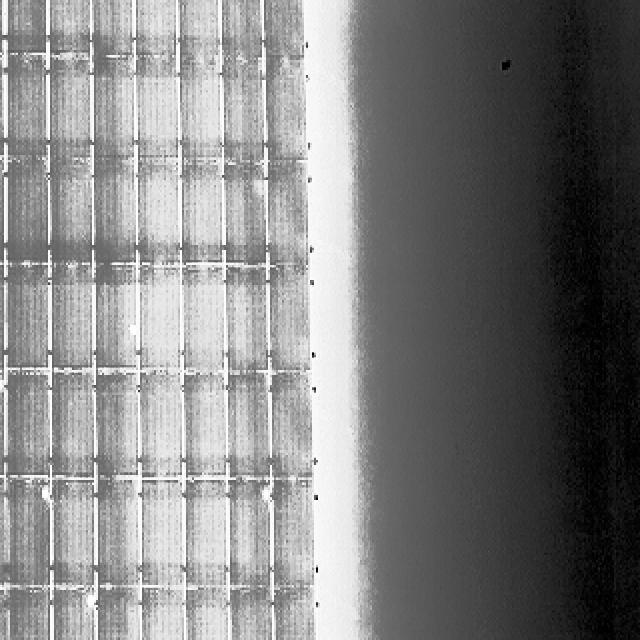Hotspots: (79, 588, 96, 612), (39, 485, 50, 501), (260, 486, 269, 502), (128, 324, 138, 336), (0, 375, 2, 393)
PV-modules: (0, 480, 54, 592), (50, 372, 104, 480), (49, 264, 103, 371), (48, 482, 96, 592), (223, 482, 270, 594), (223, 373, 270, 481), (96, 480, 142, 590), (90, 371, 136, 480), (221, 265, 266, 375), (3, 371, 50, 476), (268, 375, 314, 482), (137, 478, 182, 587), (184, 481, 229, 590), (3, 267, 49, 373), (6, 160, 52, 266), (268, 266, 312, 376), (270, 481, 314, 591), (136, 373, 181, 480), (222, 58, 267, 165), (266, 162, 311, 269), (264, 60, 309, 166), (94, 263, 139, 369), (94, 160, 138, 268), (3, 57, 48, 162), (183, 265, 226, 374), (220, 159, 265, 263), (136, 264, 180, 370), (136, 160, 180, 266), (48, 160, 92, 266), (184, 373, 228, 478), (48, 58, 92, 163), (182, 158, 226, 263), (179, 63, 223, 167), (93, 56, 136, 162), (134, 57, 178, 160), (176, 0, 224, 61), (218, 0, 262, 60), (263, 0, 306, 61), (132, 0, 176, 59), (46, 0, 94, 54), (88, 0, 133, 57), (90, 585, 136, 640), (184, 587, 230, 640), (4, 587, 50, 640), (136, 587, 182, 640), (2, 0, 47, 54), (50, 592, 96, 640), (226, 592, 272, 640), (270, 590, 314, 640), (0, 58, 8, 160), (0, 478, 6, 590), (0, 158, 6, 262), (0, 265, 4, 370), (0, 0, 6, 52), (0, 370, 2, 478), (0, 592, 4, 640)
